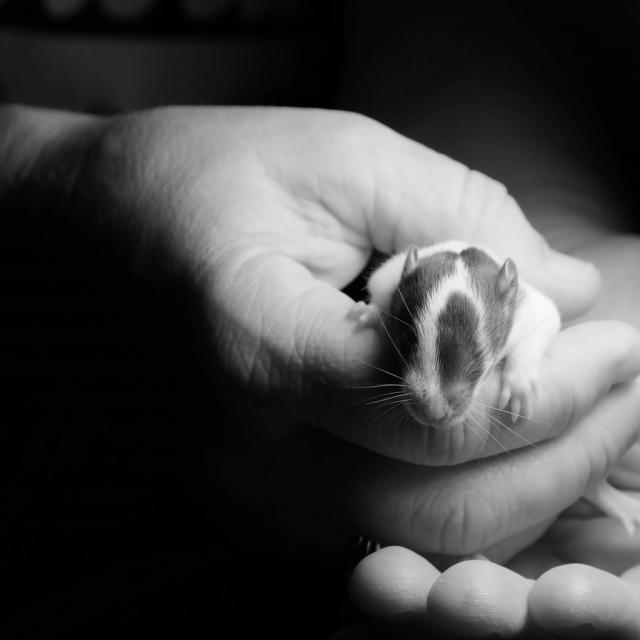rat: (348, 236, 640, 541)
